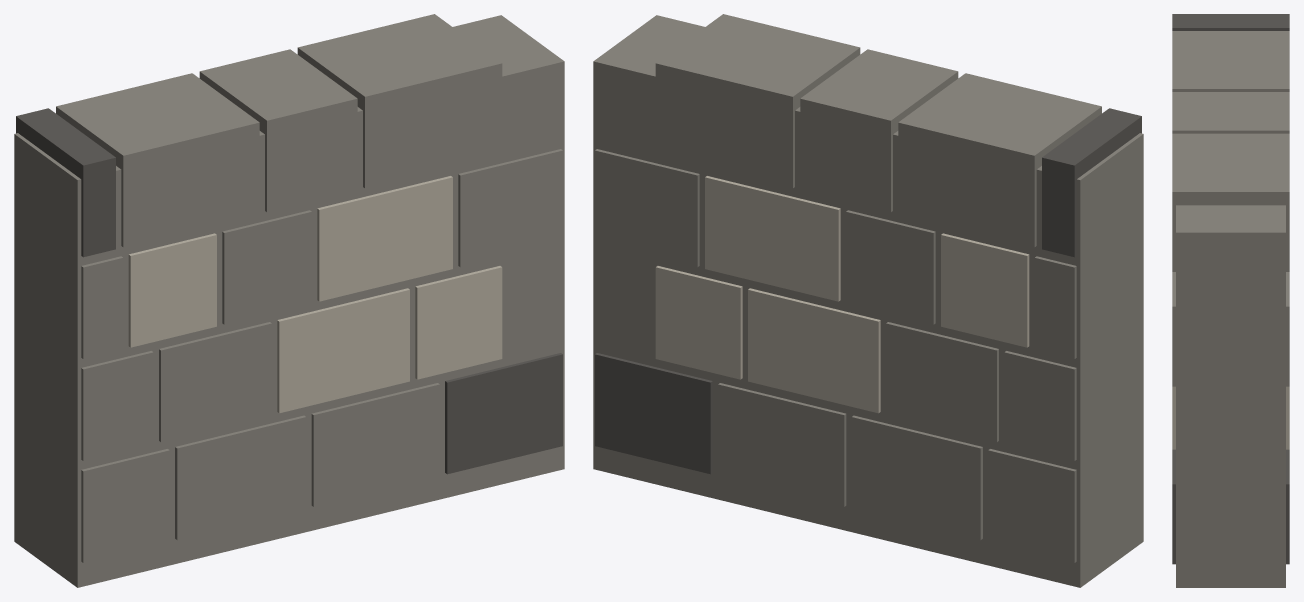
The model's file is SM_Wall_Stone_4m.fbx.
3 renders of one model, left to right at view 1: azimuth 30°, elevation 25°; view 2: azimuth 150°, elevation 25°; view 3: azimuth 270°, elevation 25°, orthographic. The views are drawn at different scales.
Visible parts, largest first — view 1: SM_Wall_Stone_4m; view 2: SM_Wall_Stone_4m; view 3: SM_Wall_Stone_4m.
Boxes of the visible parts, bbox=[...] form: SM_Wall_Stone_4m: bbox=[14, 14, 564, 587]; SM_Wall_Stone_4m: bbox=[593, 14, 1143, 587]; SM_Wall_Stone_4m: bbox=[1172, 14, 1289, 587].
Bounding box in the file's own units: 4 × 0.96 × 3.32.
